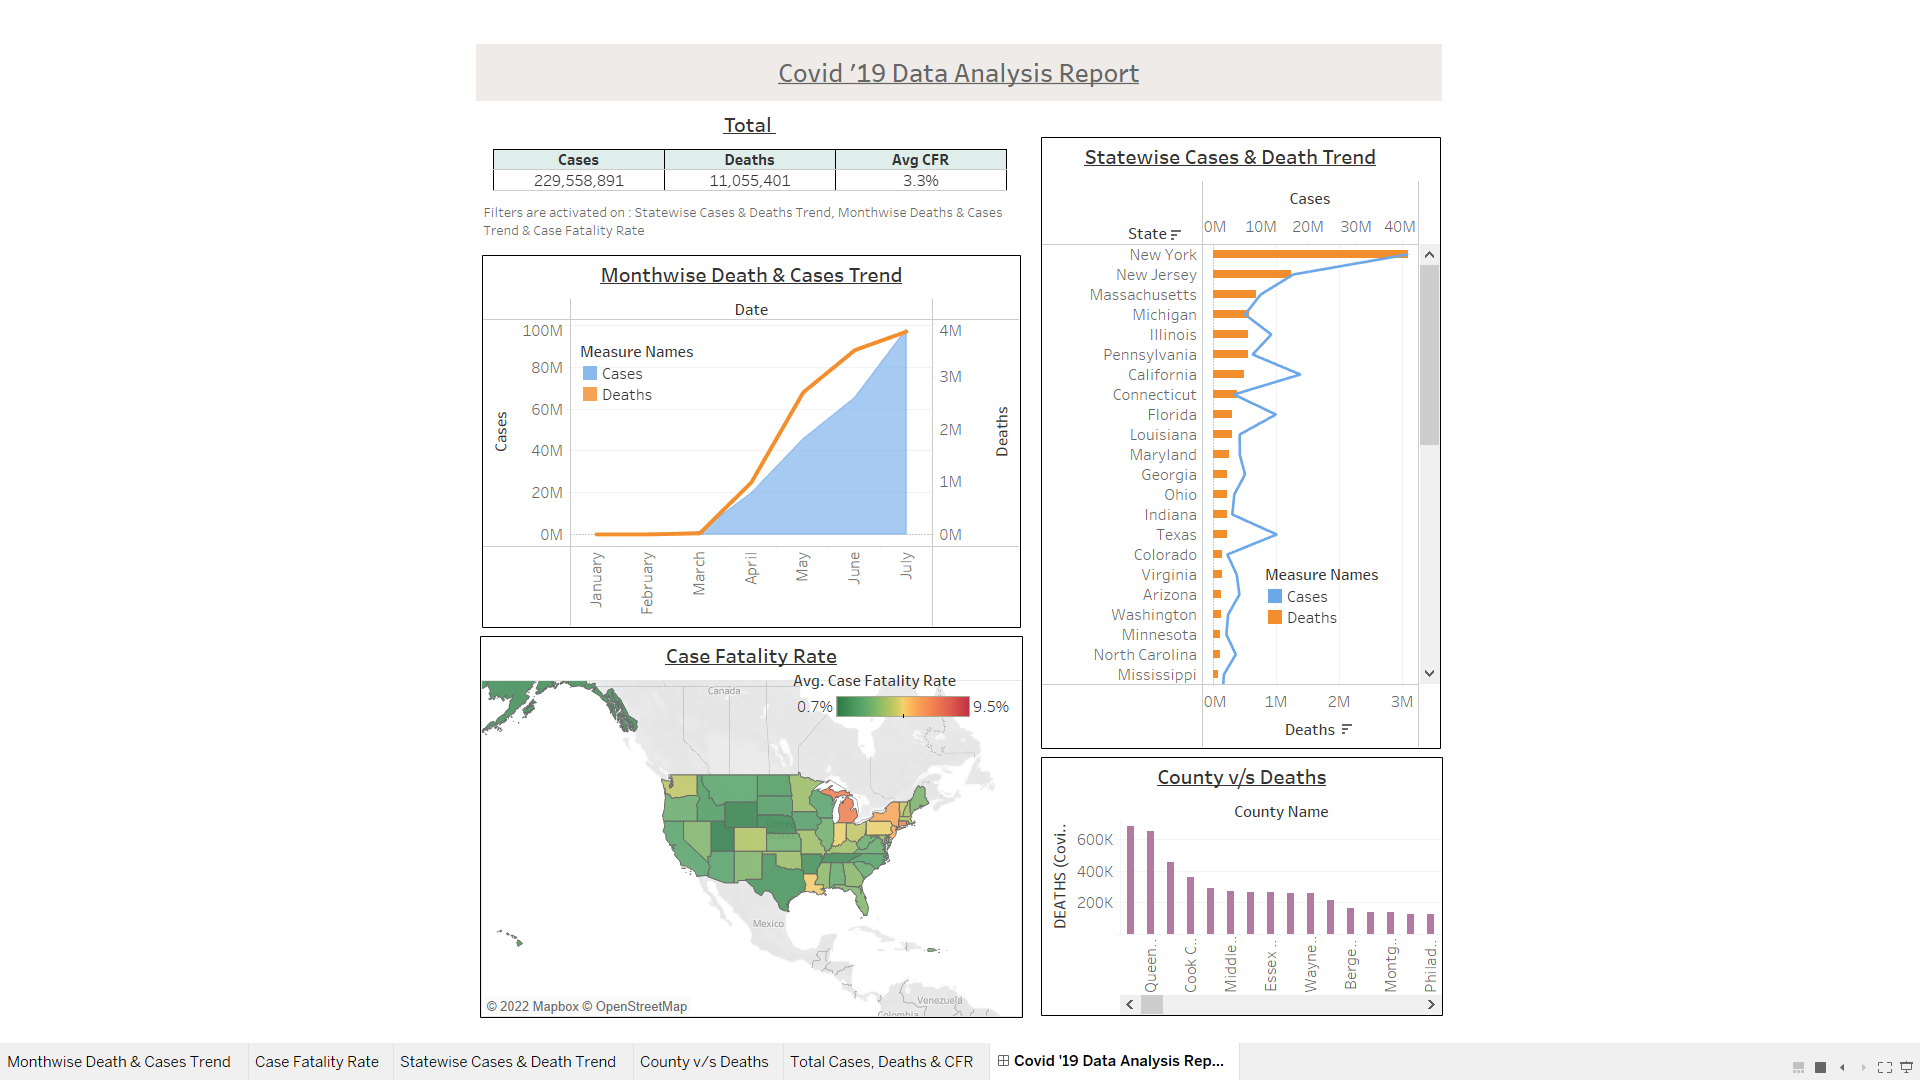

The dashboard page shown, as its layout file describes it:
{"tool":"tableau","page":{"name":"Covid '19 Data Analysis Report","canvas":[1000,1000],"ordinal":0},"visuals":[{"type":"text","box":[16,23,966,57]},{"type":"worksheet","title":"Total Cases, Deaths & CFR","mark":"Automatic","box":[33,85,558,86]},{"type":"worksheet","title":"Statewise Cases & Death Trend","mark":"Automatic","rows":["STATE"],"cols":["DEATHS","CASES"],"box":[581,116,400,612]},{"type":"text","box":[20,164,540,72]},{"type":"worksheet","title":"Monthwise Death & Cases Trend","mark":"Automatic","rows":["CASES","DEATHS"],"cols":["DATE"],"box":[22,234,539,373]},{"type":"legend","title":"Monthwise Death & Cases Trend","param":"[federated.0ui7ffg10hddcb1d2uvlm0c506nb].[:Measure Names]","box":[120,320,150,67]},{"type":"legend","title":"Statewise Cases & Death Trend","param":"[federated.0ui7ffg10hddcb1d2uvlm0c506nb].[:Measure Names]","box":[805,543,124,72]},{"type":"worksheet","title":"Case Fatality Rate","mark":"Automatic","box":[20,615,543,382]},{"type":"legend","title":"Case Fatality Rate","param":"[federated.0ui7ffg10hddcb1d2uvlm0c506nb].[avg:Calculation_444730521132519424:qk]","box":[333,649,221,58]},{"type":"worksheet","title":"County v/s Deaths","mark":"Automatic","rows":["DEATHS (Covid_County_Level_Data.csv)"],"cols":["COUNTY_NAME"],"box":[581,736,402,259]}]}

Visuals, with their boxes on the page's 1000x1000 design canvas (x1, y1, x2, y2). These are canvas units, not pixel positions in the 1920x1080 screenshot, which may show the page scaled, cropped or inside an application window:
text: Rect(16, 23, 982, 80)
"Total Cases, Deaths & CFR" worksheet: Rect(33, 85, 591, 171)
"Statewise Cases & Death Trend" worksheet: Rect(581, 116, 981, 728)
text: Rect(20, 164, 560, 236)
"Monthwise Death & Cases Trend" worksheet: Rect(22, 234, 561, 607)
"Monthwise Death & Cases Trend" legend: Rect(120, 320, 270, 387)
"Statewise Cases & Death Trend" legend: Rect(805, 543, 929, 615)
"Case Fatality Rate" worksheet: Rect(20, 615, 563, 997)
"Case Fatality Rate" legend: Rect(333, 649, 554, 707)
"County v/s Deaths" worksheet: Rect(581, 736, 983, 995)
